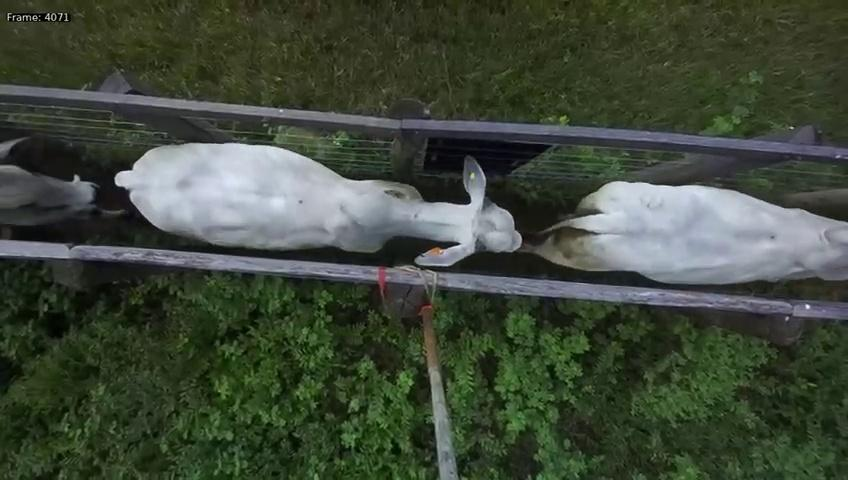cattle: (120, 135, 524, 266), (529, 173, 848, 288)
